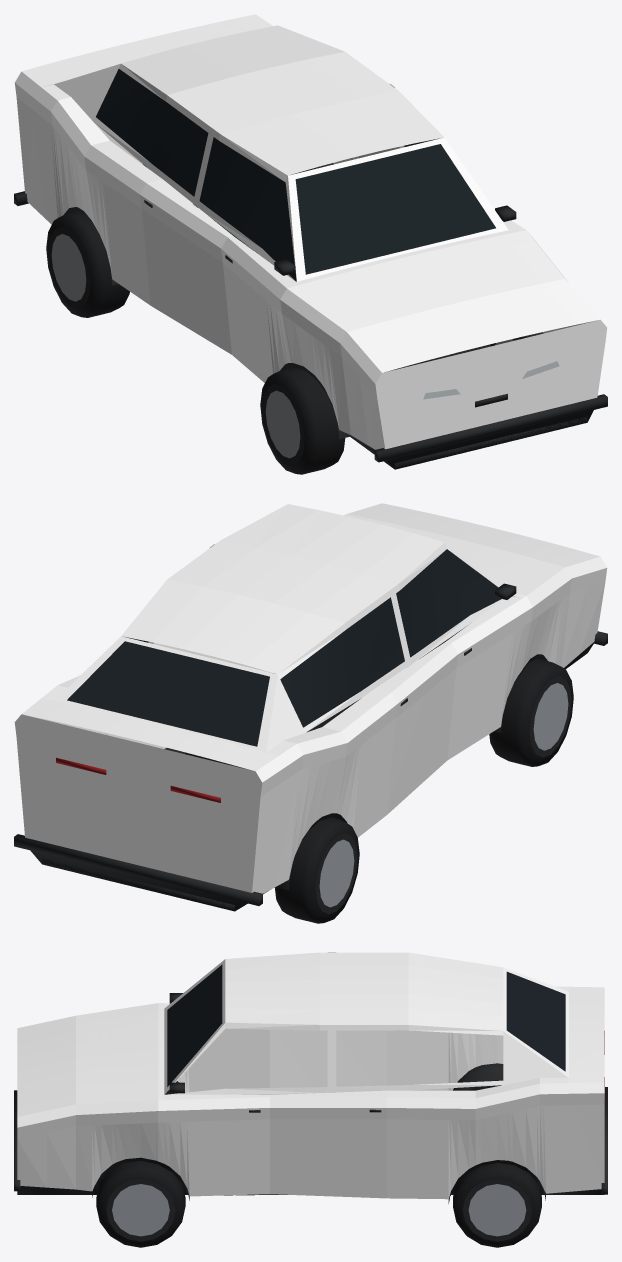
Rendered from ridgeway_cordilheira.glb.
3 renders of one model, top to bottom at view 1: azimuth 30°, elevation 25°; view 2: azimuth 150°, elevation 25°; view 3: azimuth 270°, elevation 25°, orthographic. The views are drawn at different scales.
Parts seen in each view (by area): view 1: Body_Paint, Body_Details, Mount_FrontLeft_Wheel_Details, Mount_RearLeft_Wheel_Details; view 2: Body_Paint, Body_Details, Mount_FrontLeft_Wheel_Details, Mount_RearLeft_Wheel_Details; view 3: Body_Paint, Body_Details, Mount_FrontRight_Wheel_Details, Mount_RearRight_Wheel_Details.
Part boxes in pixels (x1=…): Body_Paint: x1=14, y1=14, x2=607, y2=449; Body_Details: x1=14, y1=69, x2=607, y2=469; Mount_FrontLeft_Wheel_Details: x1=260, y1=367, x2=345, y2=474; Mount_RearLeft_Wheel_Details: x1=46, y1=211, x2=129, y2=317; Body_Paint: x1=14, y1=503, x2=607, y2=893; Body_Details: x1=14, y1=549, x2=607, y2=911; Mount_FrontLeft_Wheel_Details: x1=489, y1=658, x2=573, y2=766; Mount_RearLeft_Wheel_Details: x1=274, y1=817, x2=359, y2=923; Body_Paint: x1=17, y1=952, x2=604, y2=1199; Body_Details: x1=14, y1=964, x2=607, y2=1203; Mount_FrontRight_Wheel_Details: x1=96, y1=1161, x2=185, y2=1247; Mount_RearRight_Wheel_Details: x1=453, y1=1163, x2=541, y2=1247.
Bounding box in the file's own units: 2.2 × 1.97 × 5.07.
Materials: 2 (1 with a texture image).
